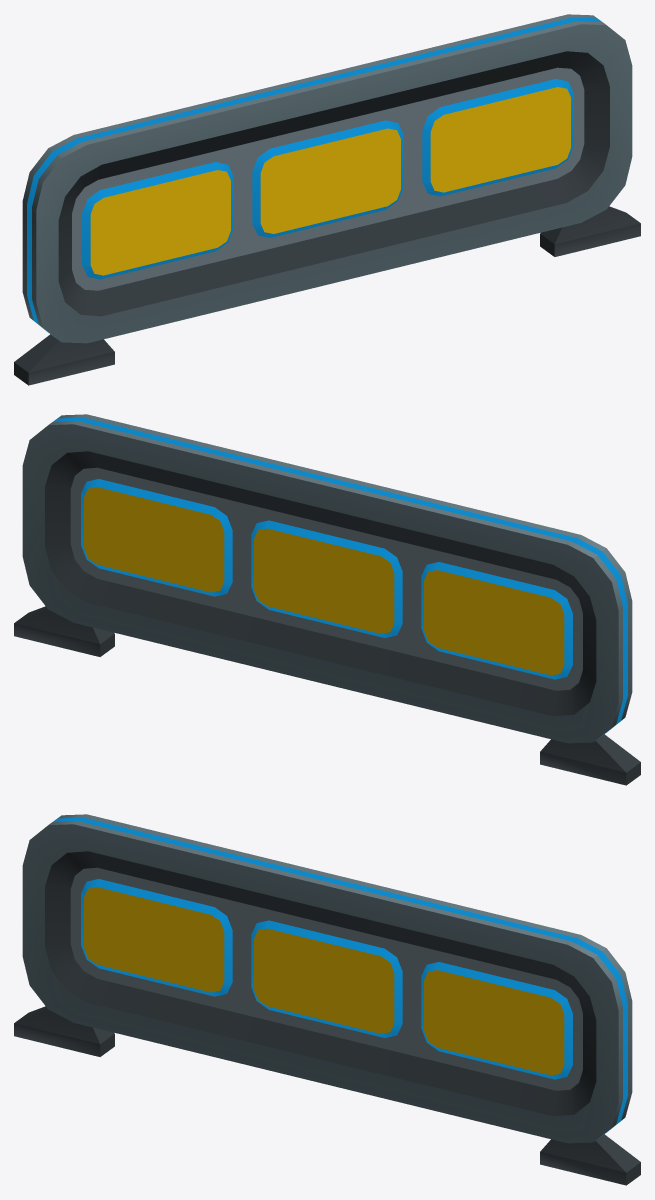
The model's file is Fence_type_C_012.glb.
3 views of the same model, one above another, from view 1: azimuth 30°, elevation 25°; view 2: azimuth 150°, elevation 25°; view 3: azimuth 330°, elevation 25° (orthographic).
Parts seen in each view (by area): view 1: Fence_type_C_012; view 2: Fence_type_C_012; view 3: Fence_type_C_012.
Part boxes in pixels (x1,y1,x2,y2): Fence_type_C_012: [14, 14, 640, 385]; Fence_type_C_012: [14, 414, 640, 785]; Fence_type_C_012: [14, 814, 640, 1185].
Bounding box in the file's own units: 4.01 × 1.41 × 0.1653.
Materials: 2 (2 with a texture image).
